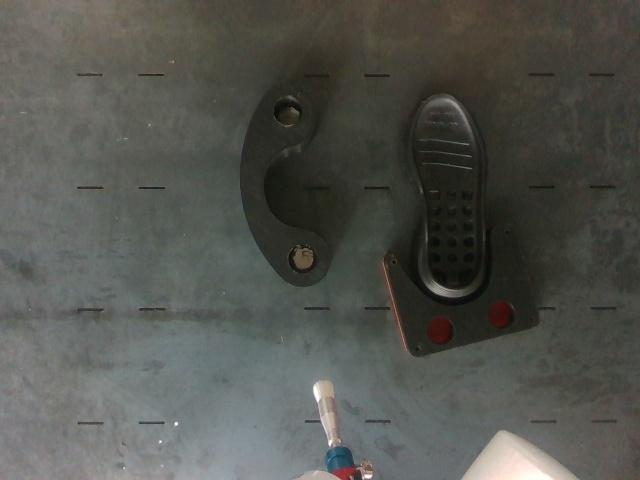shoes: (413, 94, 484, 291)
